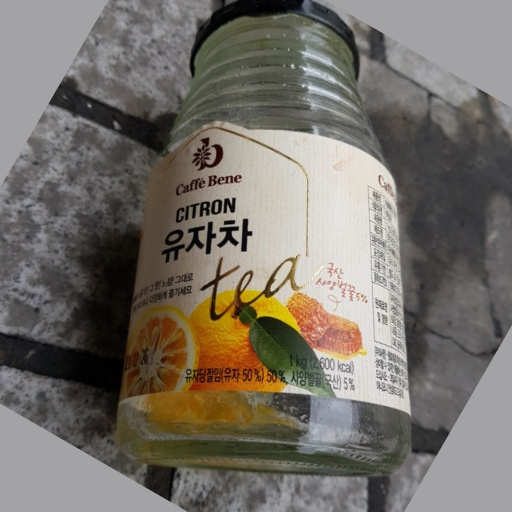Glass_5: (113, 7, 413, 471)
